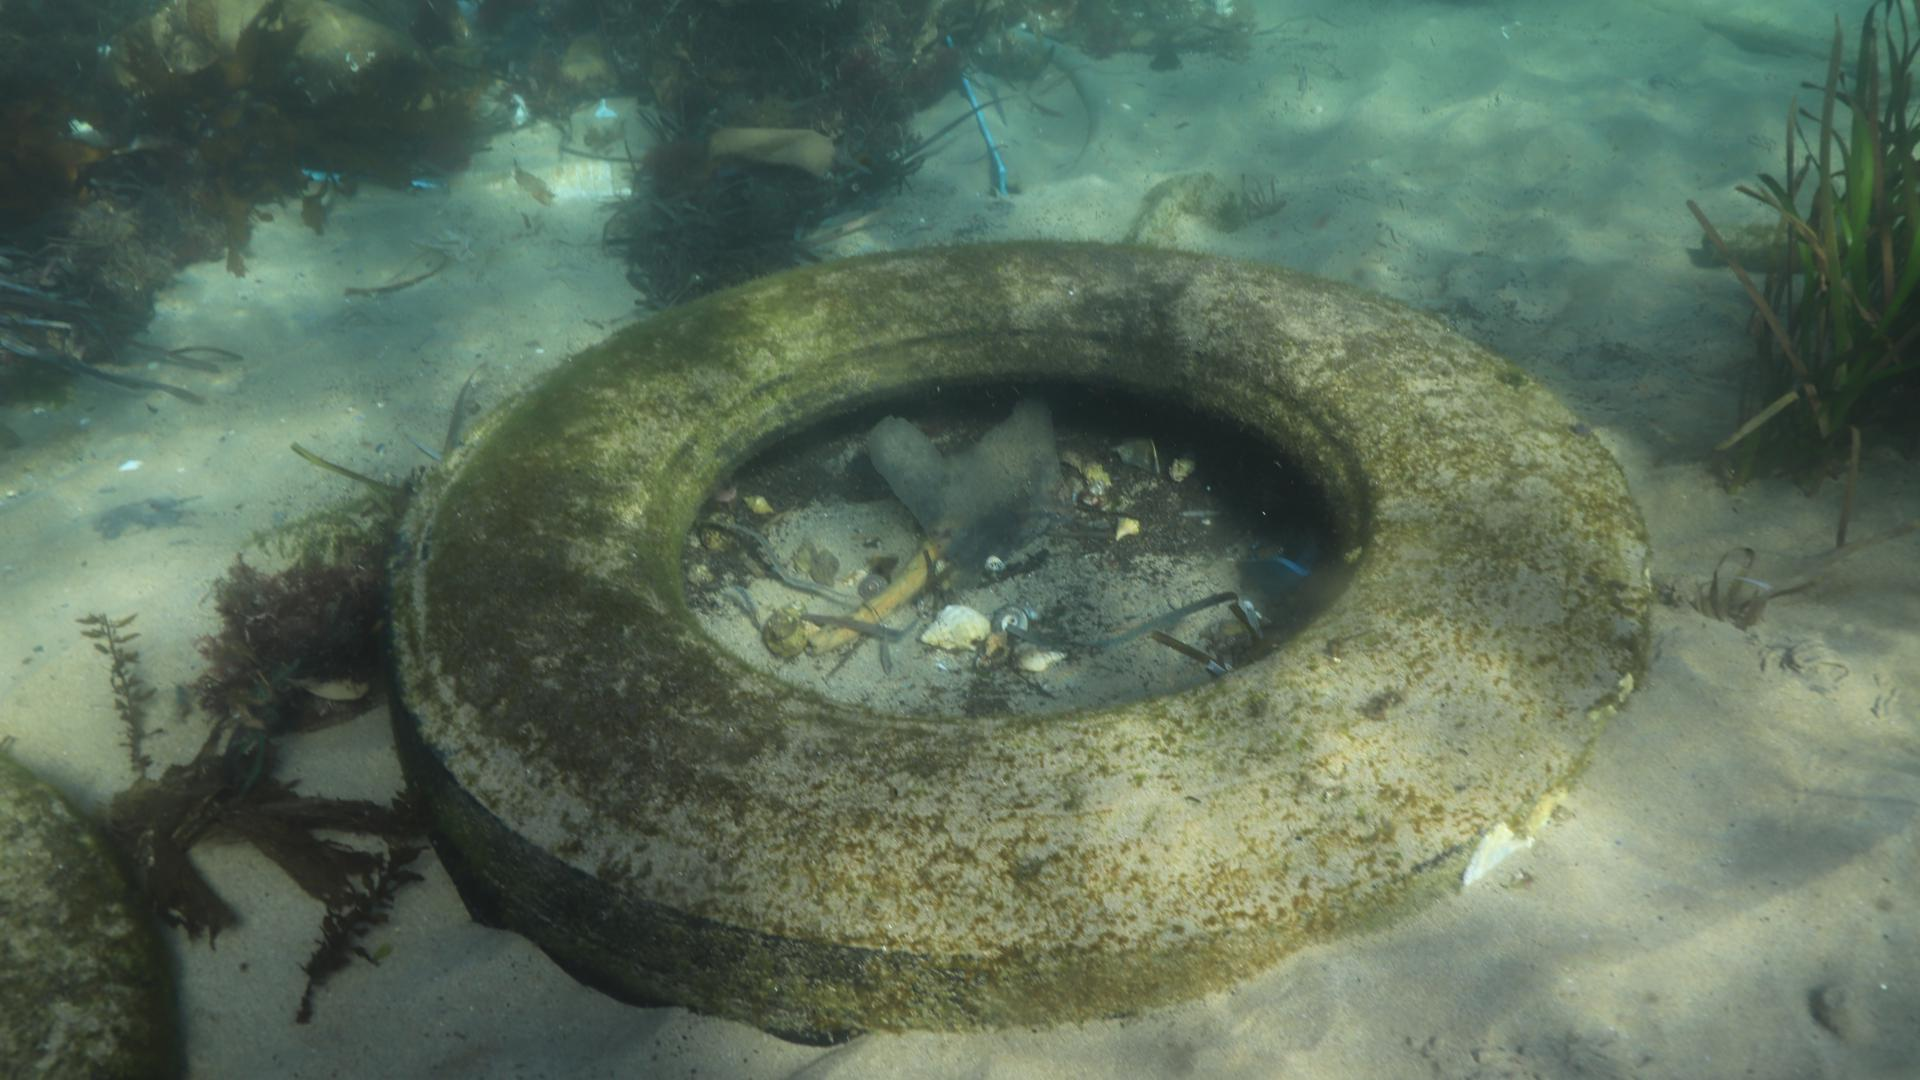tire: (382, 235, 1652, 1027)
